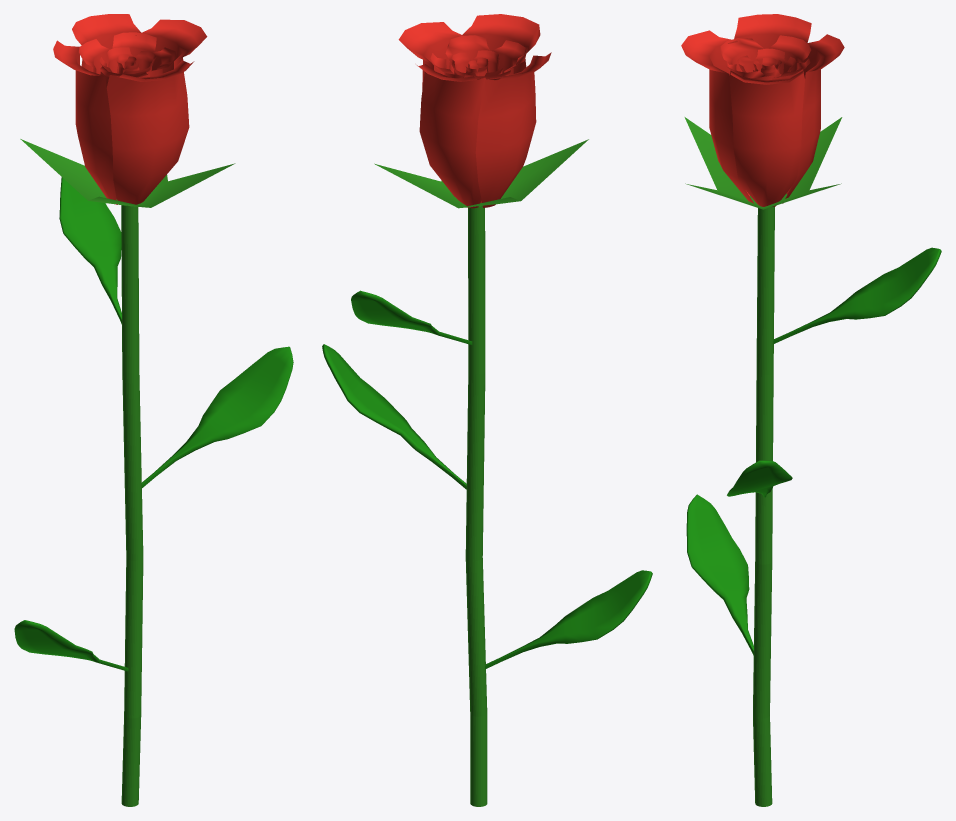
Rendered from rose_v4.fbx.
The picture shows the model from 3 angles, left to right: view 1: azimuth 30°, elevation 25°; view 2: azimuth 150°, elevation 25°; view 3: azimuth 270°, elevation 25°; orthographic projection.
Visible parts, largest first — view 1: Rosa; view 2: Rosa; view 3: Rosa.
Part boxes in pixels (x1=…): Rosa: x1=14, y1=14, x2=293, y2=806; Rosa: x1=322, y1=14, x2=652, y2=806; Rosa: x1=681, y1=14, x2=941, y2=806.
Bounding box in the file's own units: 23.85 × 57.5 × 17.97.
